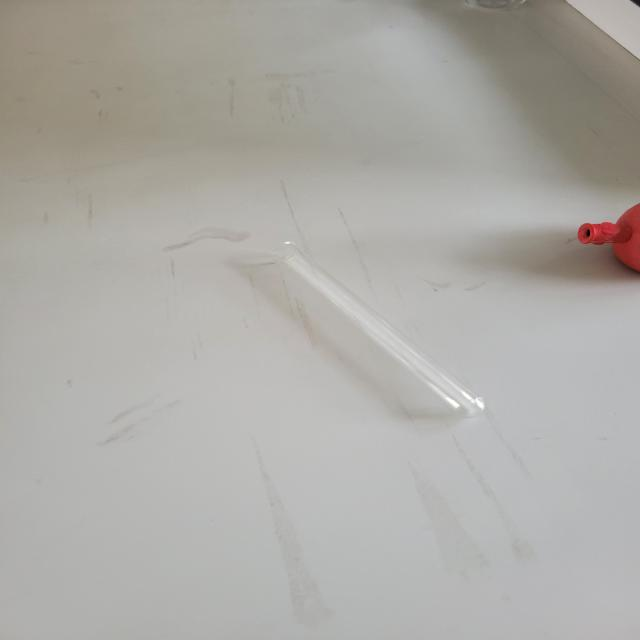Test_Tube: (248, 197, 507, 480)
